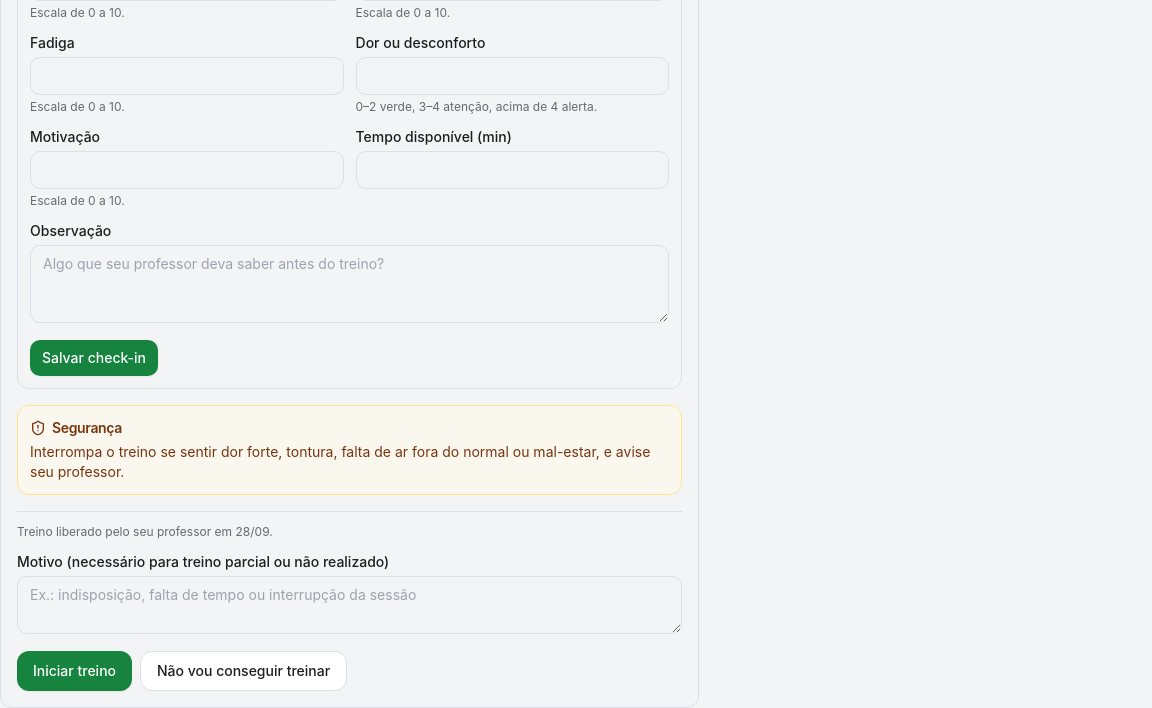
Test: TrainingRoutinePanel (#387) › preserva o motivo após falha recuperável e orienta reconciliação em conflito 409
The width and height of the screenshot is (1152, 708).
(page scrolled)
Type "indisposição" into the text box with placeholder "Ex.: indisposição, falta de tempo ou interrupção da sessão" at (350, 605), box [17,576,682,634]
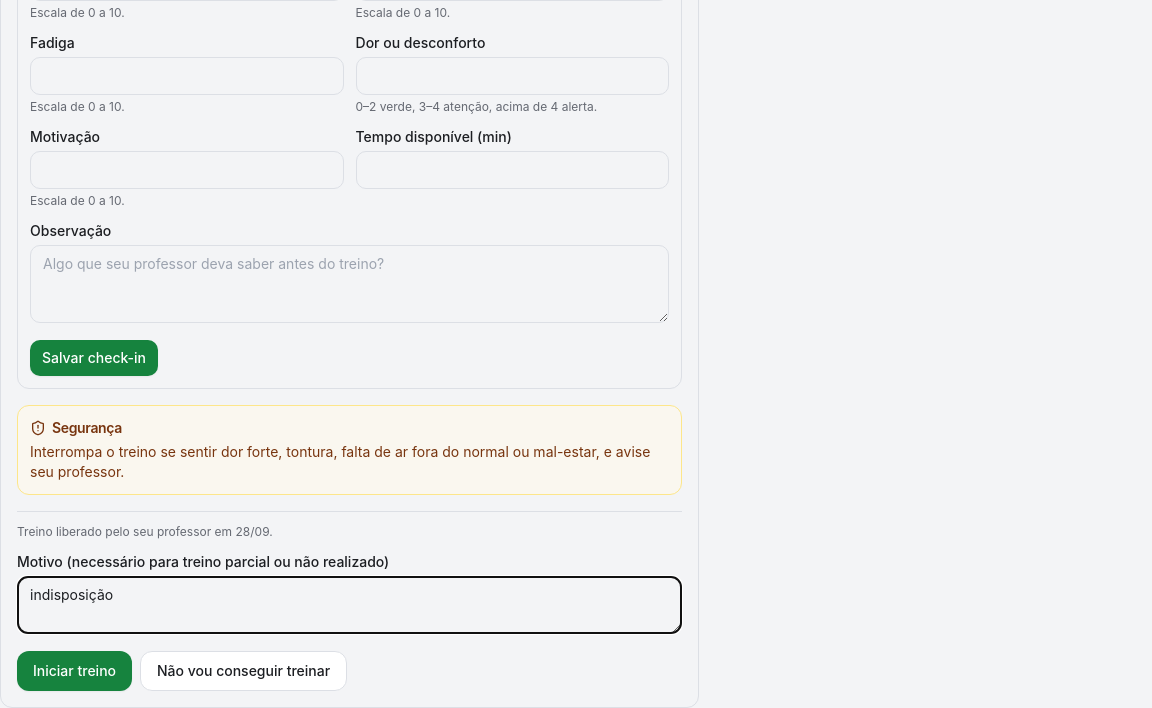
Click the button "Não vou conseguir treinar" at (244, 671), box [140,651,347,691]
(page scrolled)
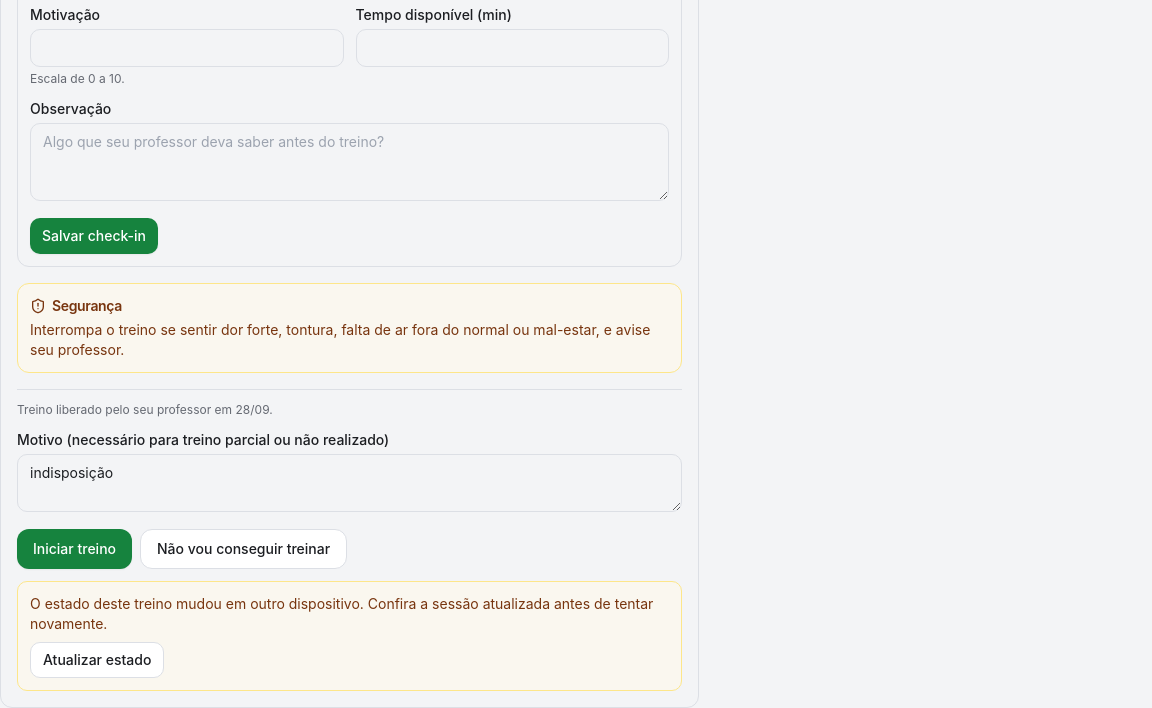
Expected: the message shows "outro dispositivo", [30,595,653,632]
Expected: the button "Atualizar estado" is shown, [30,642,164,678]
